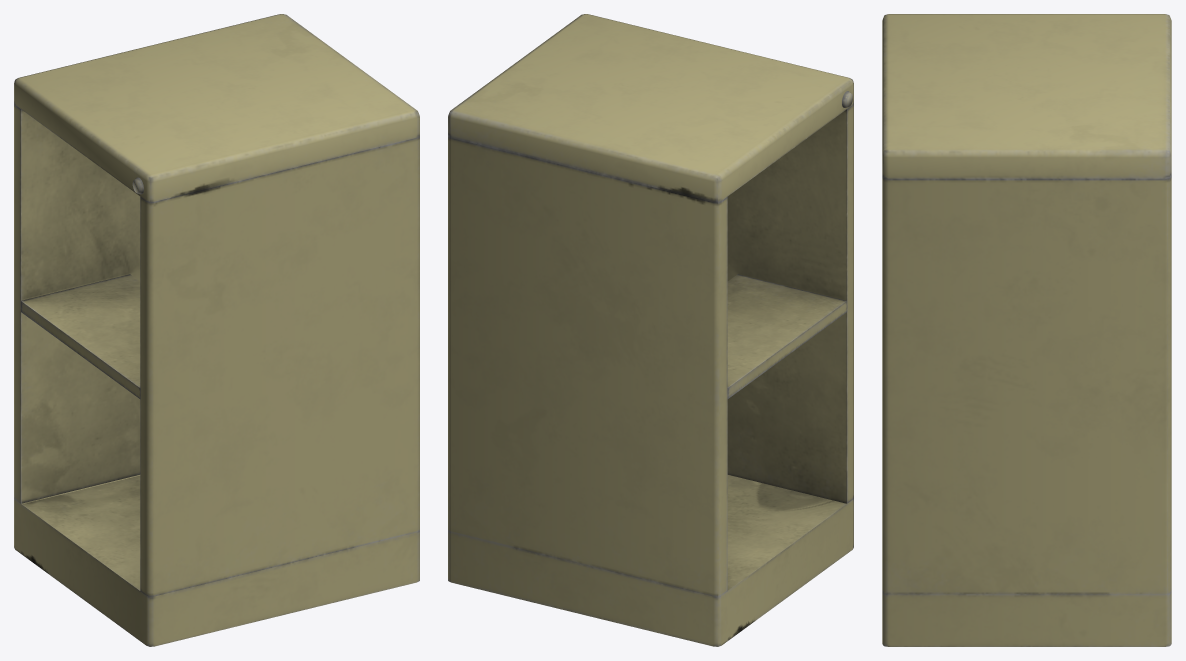
Rendered from SM_Filing_Cabinet_01b.fbx.
3 renders of one model, left to right at view 1: azimuth 30°, elevation 25°; view 2: azimuth 150°, elevation 25°; view 3: azimuth 270°, elevation 25°, orthographic. The views are drawn at different scales.
Visible parts, largest first — view 1: SM_Filing_Cabinet_01b_LOD0; view 2: SM_Filing_Cabinet_01b_LOD0; view 3: SM_Filing_Cabinet_01b_LOD0.
Part boxes in pixels (bbox=[...]): SM_Filing_Cabinet_01b_LOD0: bbox=[14, 14, 419, 646]; SM_Filing_Cabinet_01b_LOD0: bbox=[448, 14, 853, 646]; SM_Filing_Cabinet_01b_LOD0: bbox=[882, 14, 1171, 646].
Size of the model in its own units: 54.87 by 47.25 by 89.29.
1 material, 1 textured.
